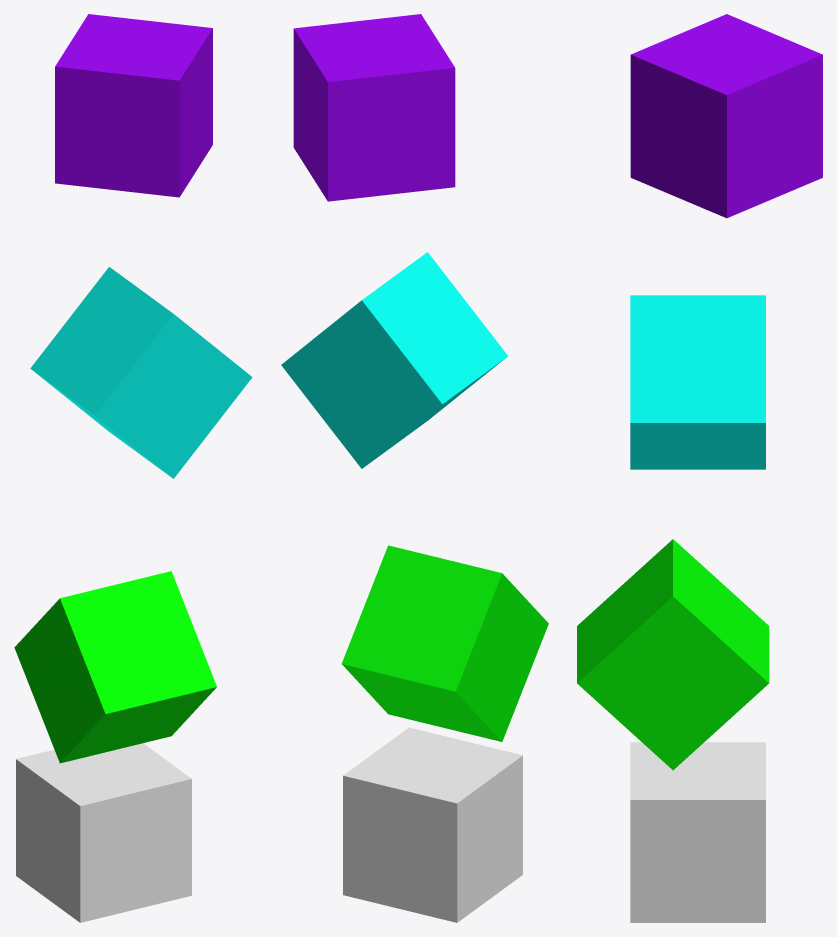
3 views of the same model, side by side, from view 1: azimuth 30°, elevation 25°; view 2: azimuth 150°, elevation 25°; view 3: azimuth 270°, elevation 25° (orthographic). The views are drawn at different scales.
Size of the model in its own units: 0.00799 by 0.035 by 0.00905.
